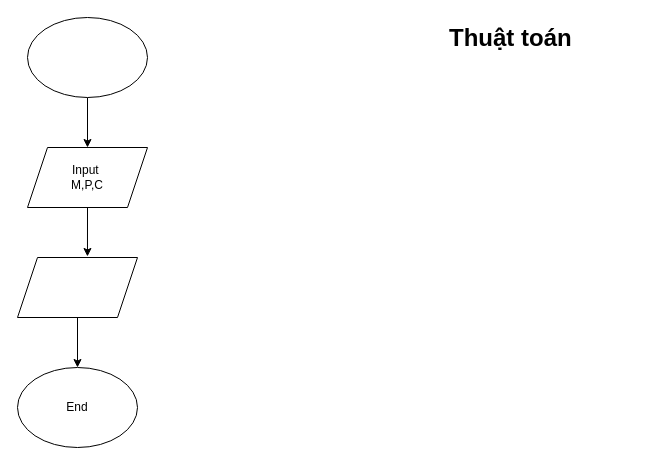
Some shapes in this 645 by 465 pixel diagram are drawn without their labels. The shapes that lost their labels are listed below. From the top down, each one's box as (x1, y1, x2, y2) in pixels, then its label:
(26, 16, 148, 98): Begin
(16, 256, 138, 318): ĐTB=(M+P+C)/3
